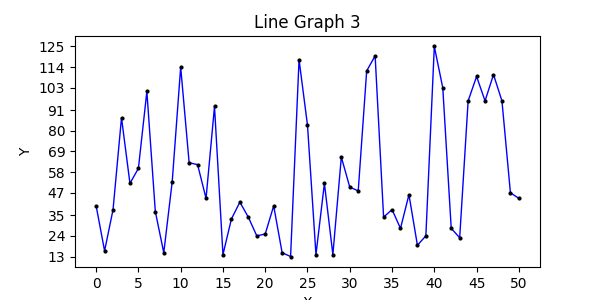cvs: (75, 36, 540, 267)
